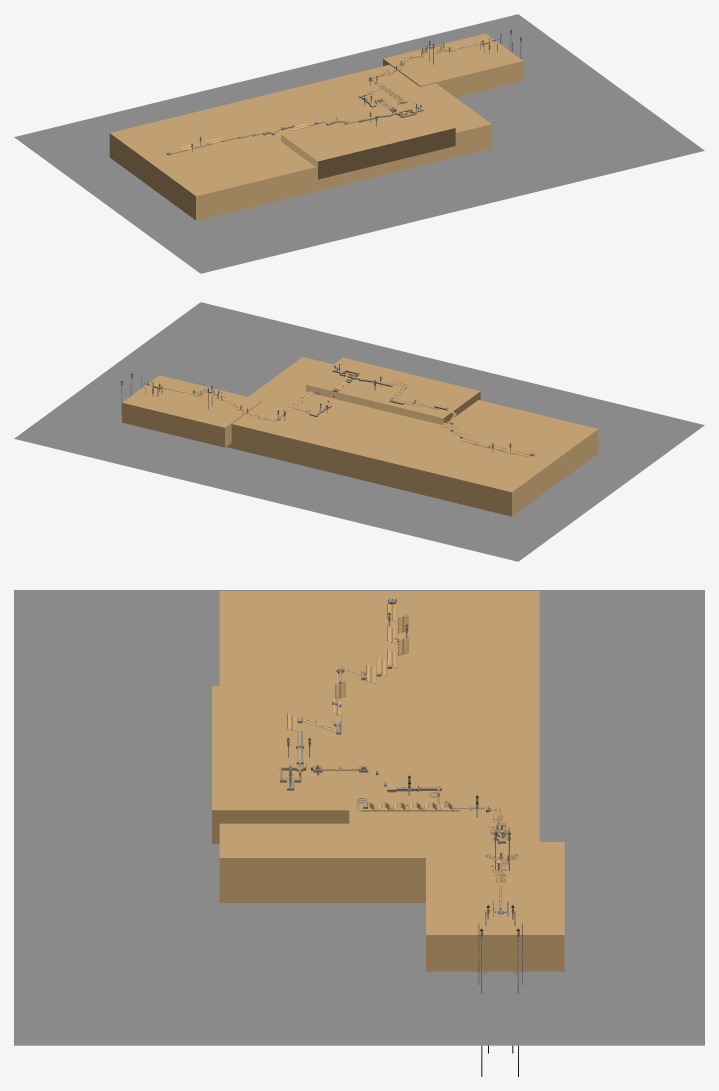
File: Level02.FBX
The picture shows the model from 3 angles, top to bottom: view 1: azimuth 30°, elevation 25°; view 2: azimuth 150°, elevation 25°; view 3: azimuth 270°, elevation 25°; orthographic projection. The views are drawn at different scales.
Parts seen in each view (by area): view 1: SkyLayer, Quader01, Quader03, Quader02; view 2: SkyLayer, Quader01, Quader02, Quader03; view 3: SkyLayer, Quader01, Quader03, Quader02.
Boxes of the visible parts, x1,y1,x2,y2 form: SkyLayer: [14, 14, 704, 273]; Quader01: [109, 64, 491, 220]; Quader03: [281, 101, 455, 179]; Quader02: [383, 33, 523, 97]; SkyLayer: [14, 302, 704, 561]; Quader01: [226, 357, 598, 516]; Quader02: [122, 375, 262, 447]; Quader03: [306, 357, 480, 424]; SkyLayer: [14, 590, 704, 1045]; Quader01: [219, 591, 539, 902]; Quader03: [212, 686, 349, 843]; Quader02: [426, 842, 564, 971].
Bounding box in the file's own units: 2261 × 407 × 1450.
Materials: 40 (33 with a texture image).
